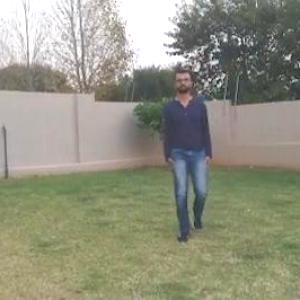follow: (169, 72, 209, 228)
